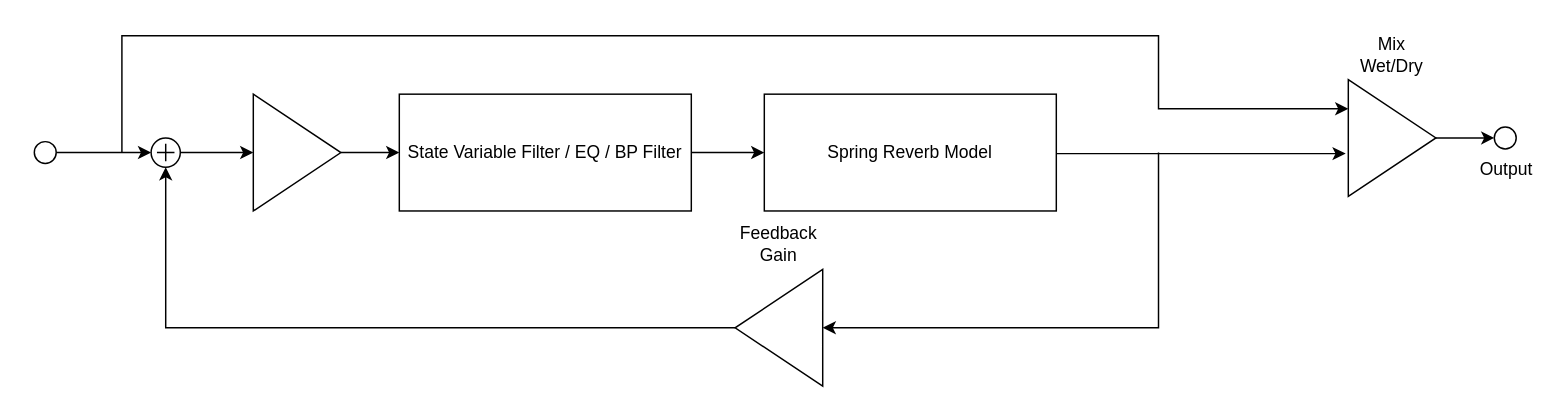
Image size: 1556x412. Some labels were removed from this diagram. Each missing label, with the centre of its shape:
Gain/Dwell: point (296, 152)
Input: point (44, 152)
